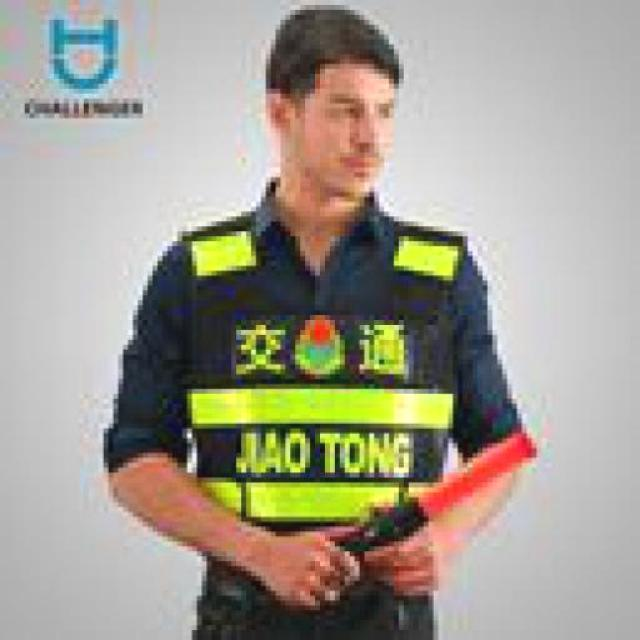face_nomask: (312, 87, 402, 189)
hand_noglove: (358, 511, 462, 604), (265, 519, 367, 613)
head_nohelmet: (263, 0, 405, 89)
person: (99, 6, 544, 640)
vest: (177, 206, 468, 572)
